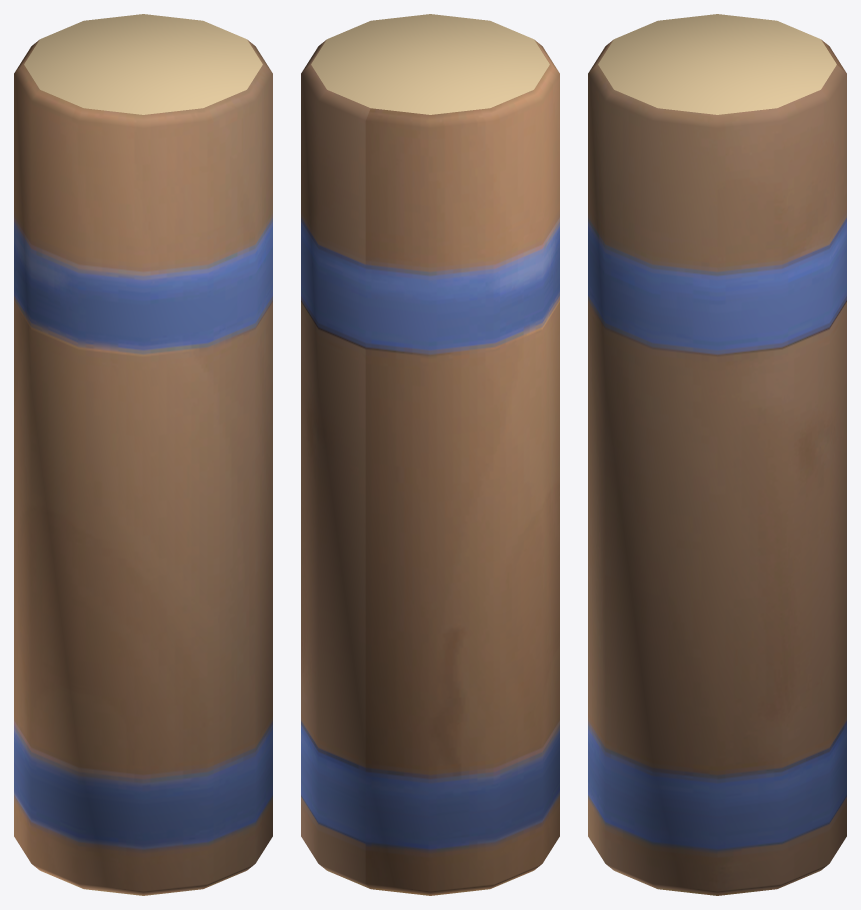
The picture shows the model from 3 angles, left to right: view 1: azimuth 30°, elevation 25°; view 2: azimuth 150°, elevation 25°; view 3: azimuth 270°, elevation 25°; orthographic projection.
Visible parts, largest first — view 1: mutou; view 2: mutou; view 3: mutou.
Part boxes in pixels (bbox=[...]): mutou: bbox=[14, 14, 272, 895]; mutou: bbox=[301, 14, 559, 895]; mutou: bbox=[588, 14, 846, 895].
Bounding box in the file's own units: 0.4645 × 1.56 × 0.4645.
Materials: 1 (1 with a texture image).
